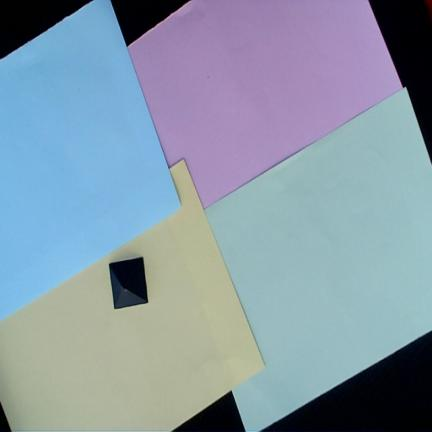Piramide: (108, 256, 149, 310)
